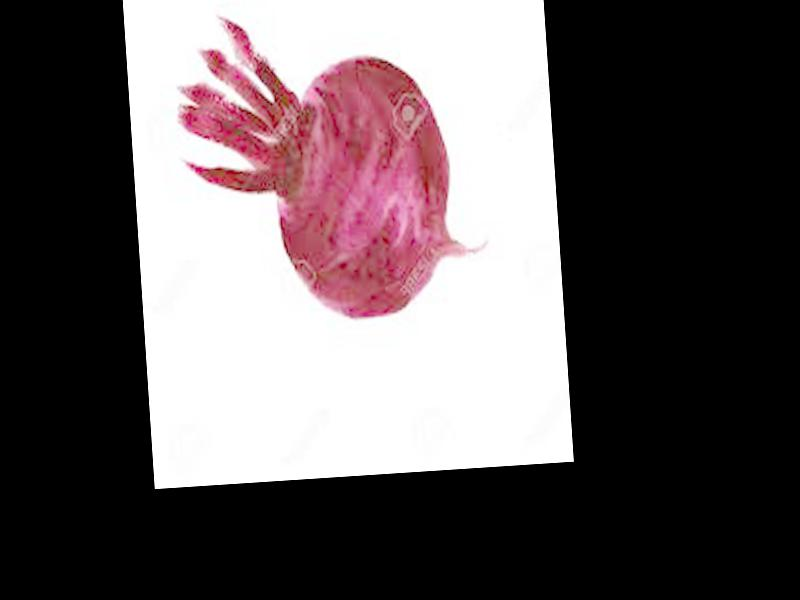Beet: (172, 0, 493, 331)
